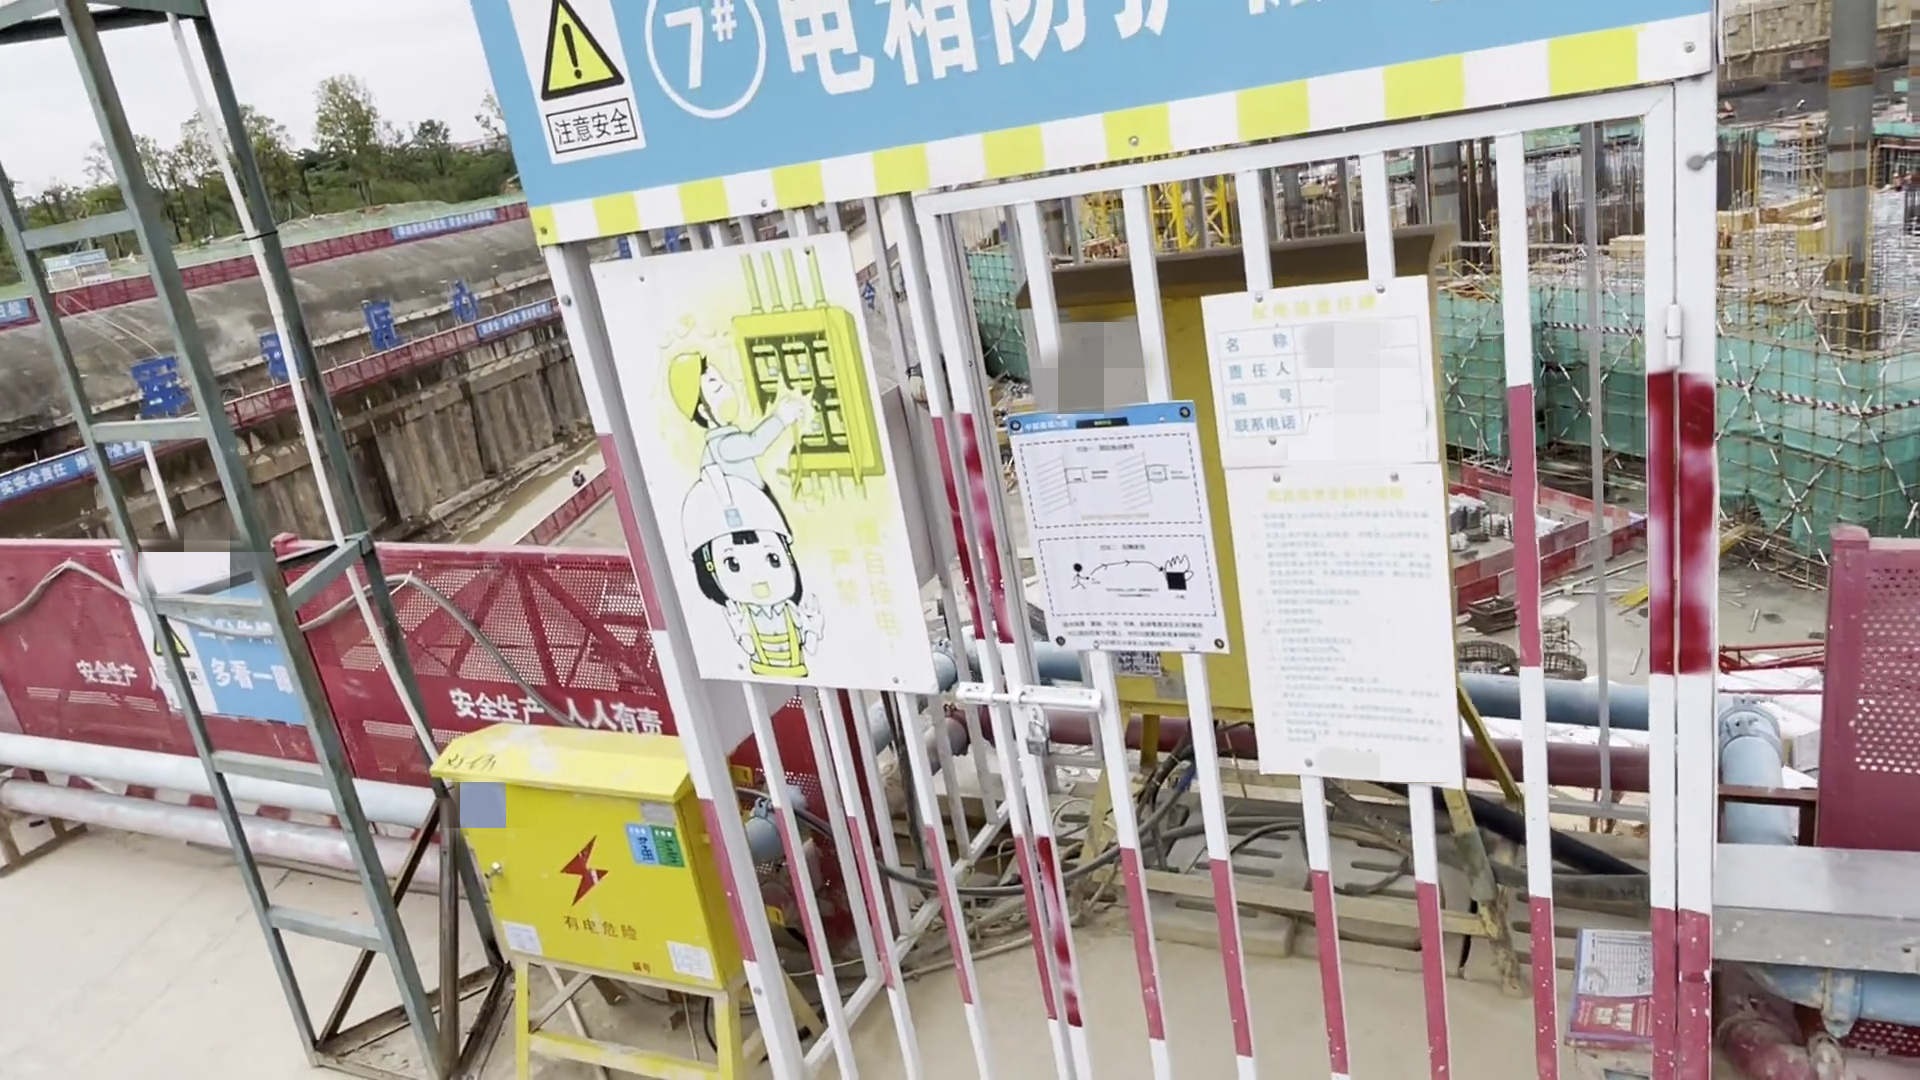ebox: (430, 711, 761, 1080)
fence: (1, 541, 640, 703)
slogan: (512, 1, 1625, 260), (549, 239, 949, 709), (121, 545, 320, 727)
